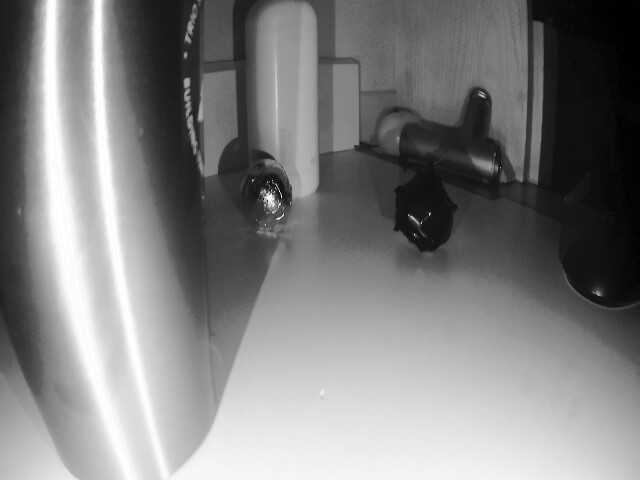black: (235, 158, 300, 231)
silver: (398, 170, 453, 251)
